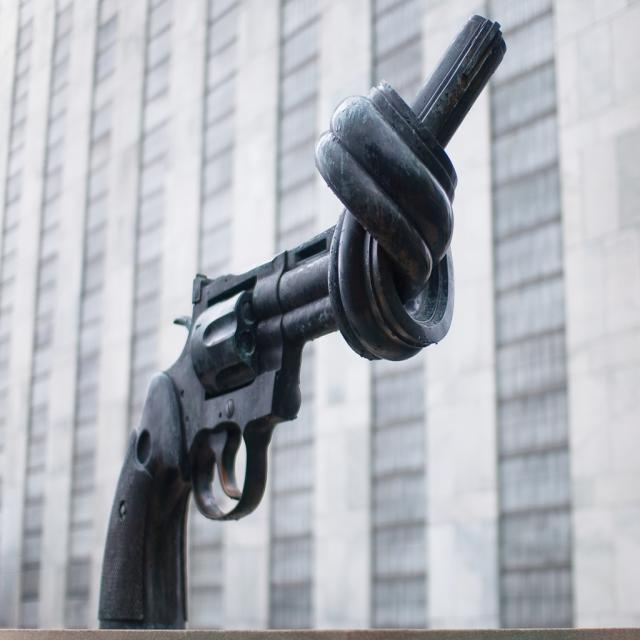Gun: (98, 226, 353, 632)
